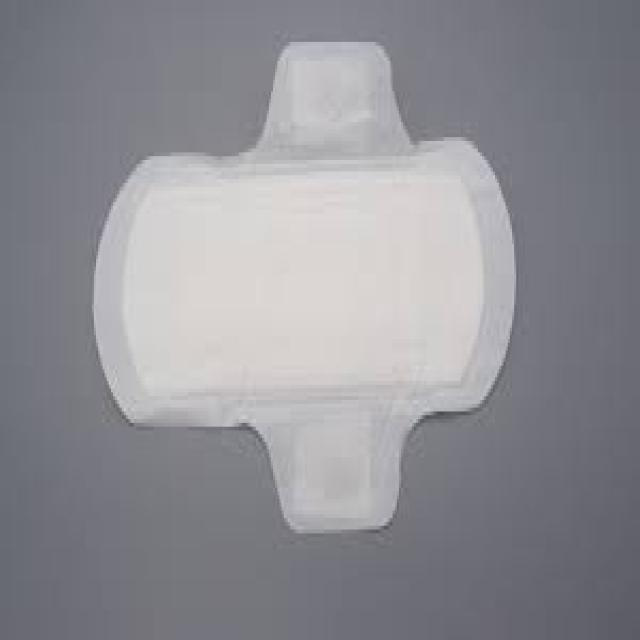napkin: (94, 42, 515, 530)
